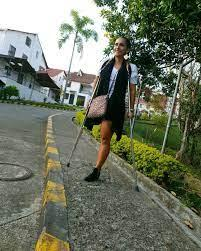crutches: (67, 36, 139, 191)
